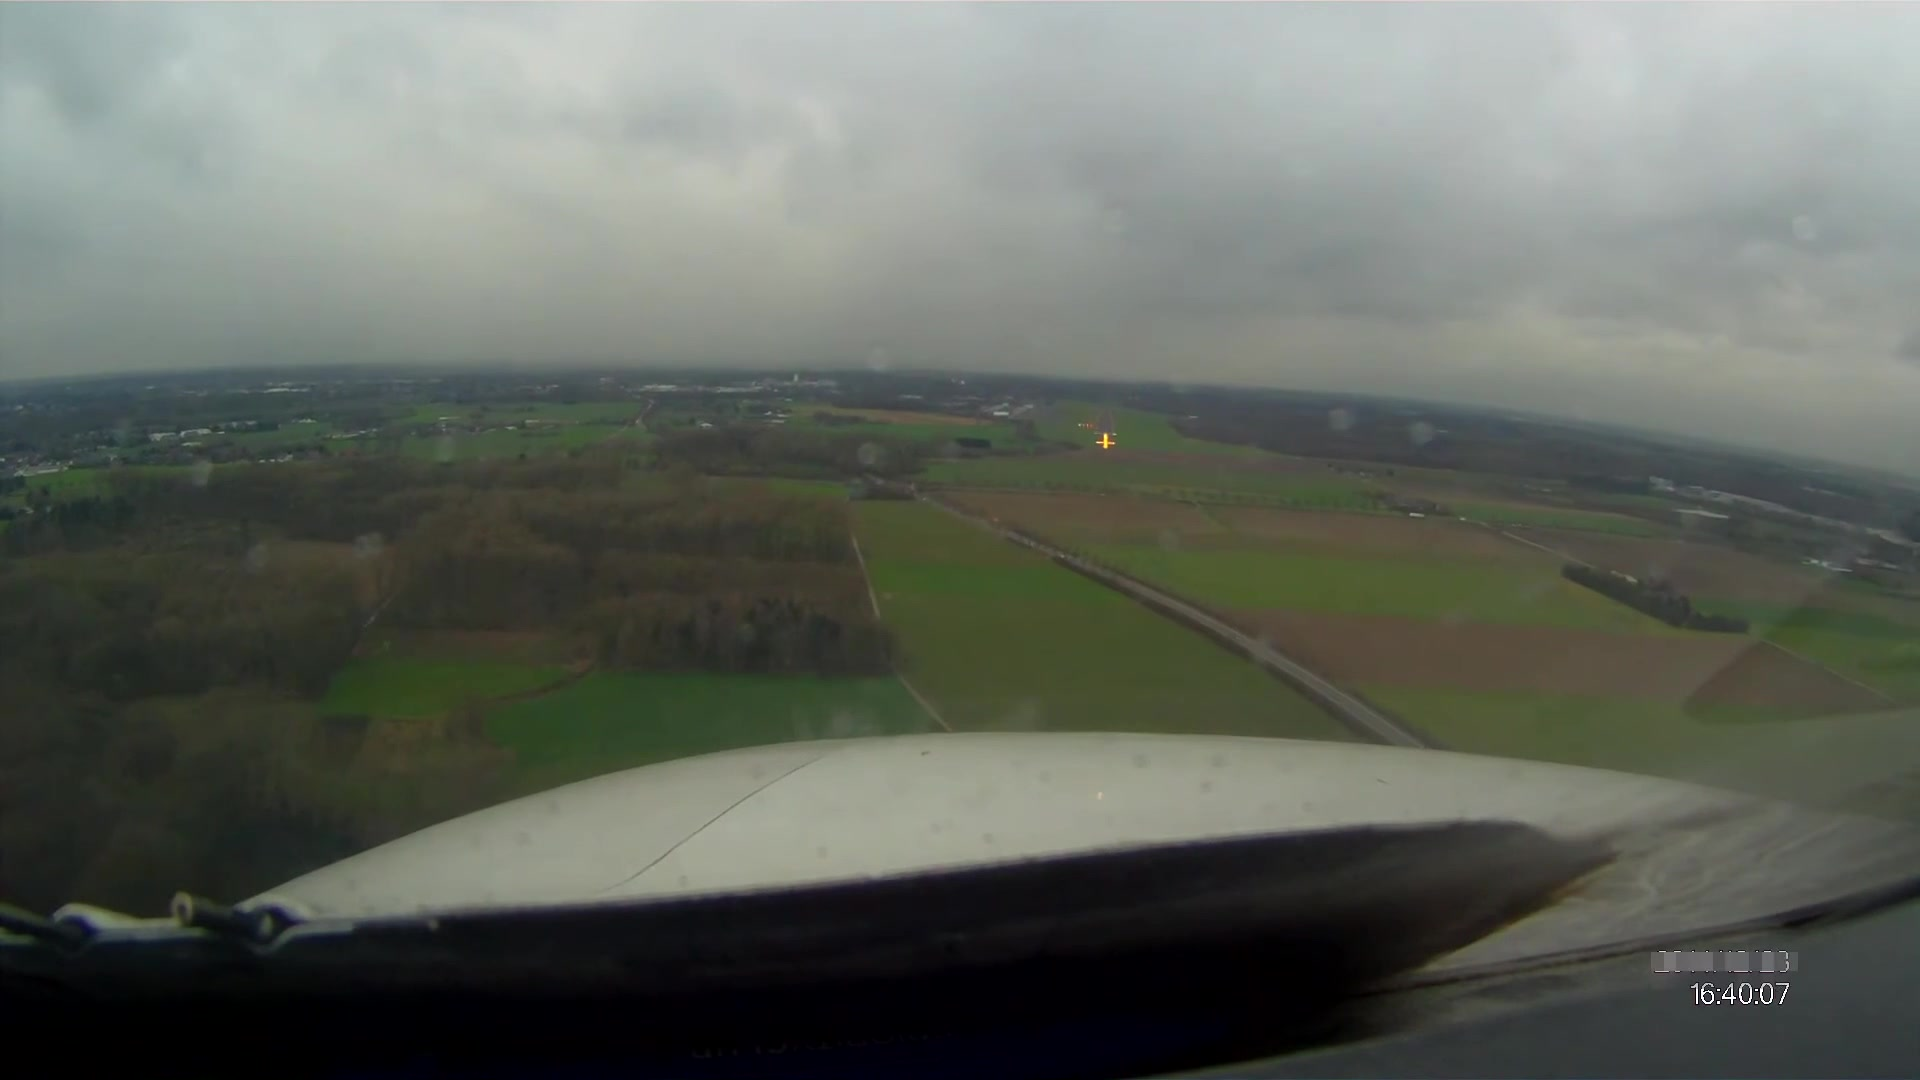runway: (1091, 402, 1120, 435)
